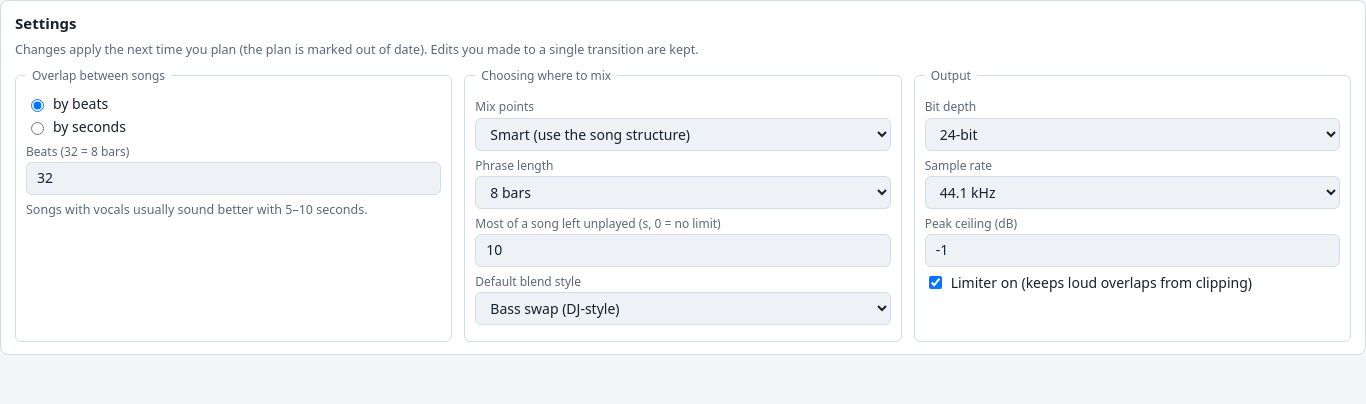
Test: SettingsPanel › shows the server's explanation when a value is refused
Select "As late as possible" in the dropdown labelled "Mix points" at (683, 134), box [475,118,891,151]
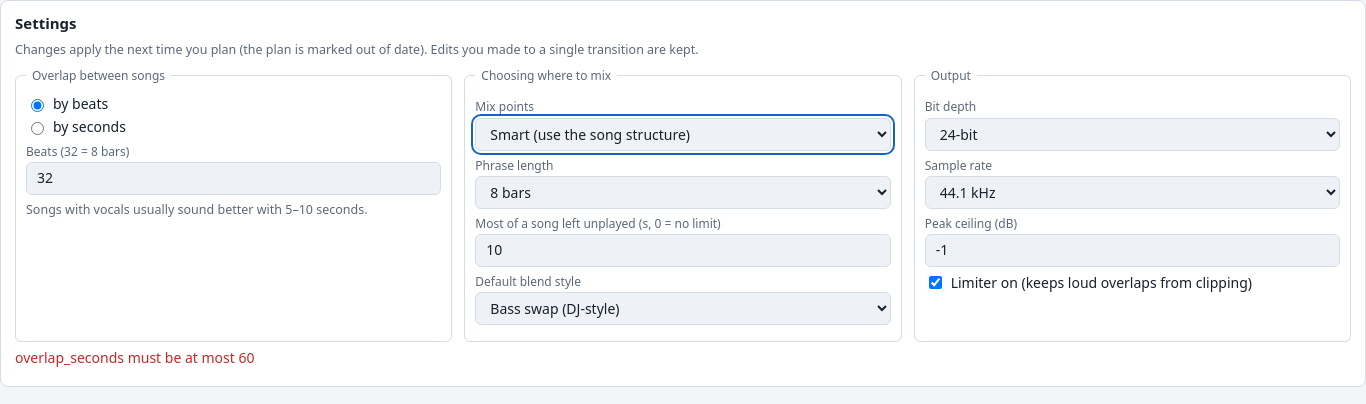
Expected: the message reads "overlap_seconds must be at most 60", [15,348,254,367]
